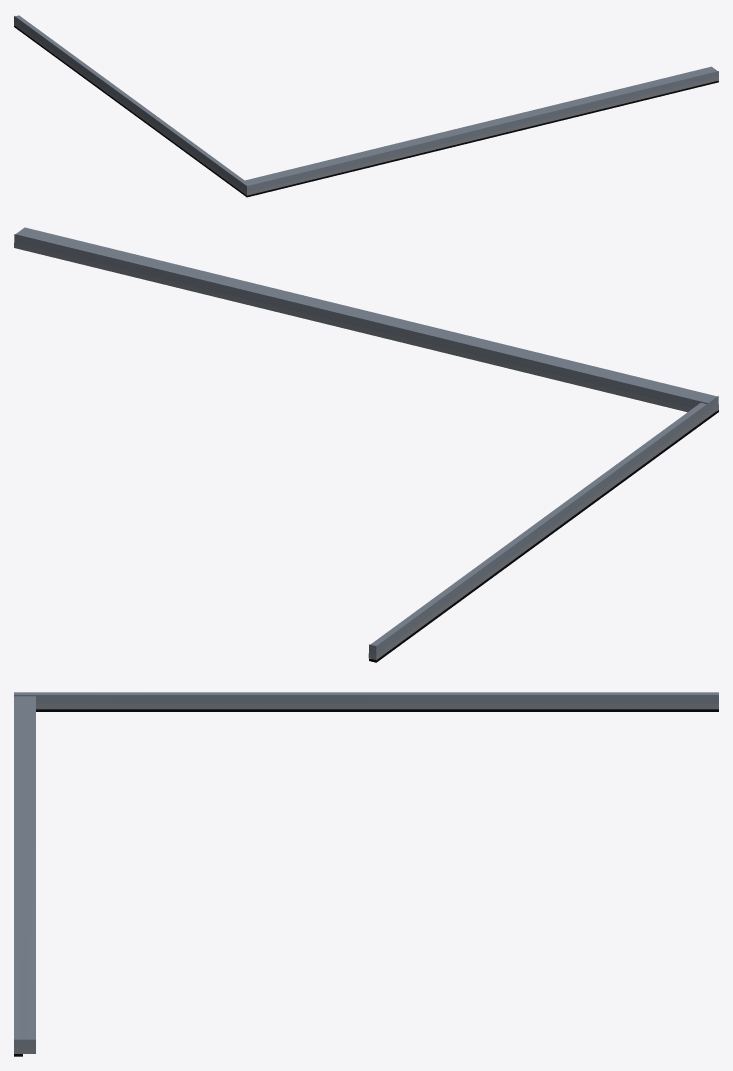
File: tt_roof_plant_cutout_m.glb
3 views of the same model, one above another, from view 1: azimuth 30°, elevation 25°; view 2: azimuth 150°, elevation 25°; view 3: azimuth 270°, elevation 25° (orthographic). The views are drawn at different scales.
Parts seen in each view (by area): view 1: Collar, Deck, Gutter; view 2: Collar, Deck, Gutter; view 3: Collar, Deck, Gutter.
Boxes of the visible parts, x1,y1,x2,y2 form: Collar: [14, 15, 718, 191]; Deck: [14, 22, 718, 195]; Gutter: [14, 25, 718, 197]; Collar: [14, 227, 718, 654]; Deck: [14, 243, 718, 660]; Gutter: [369, 410, 718, 662]; Collar: [14, 692, 718, 1048]; Deck: [14, 704, 718, 1053]; Gutter: [14, 709, 718, 1056].
Size of what is drawn, in the model's own units: 11.17 by 0.255 by 9.55.
3 materials, 2 textured.
